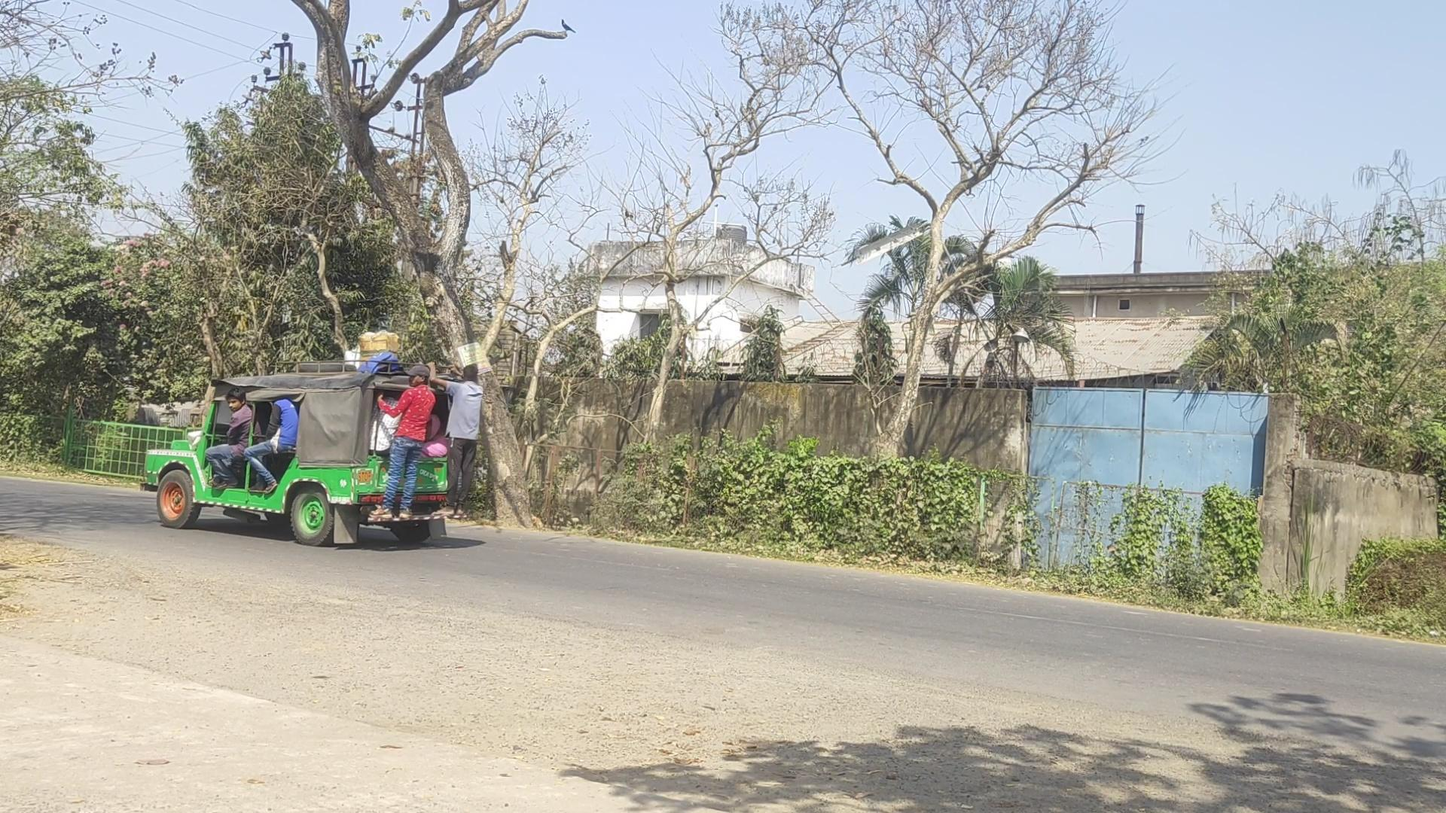car: (144, 331, 487, 547)
